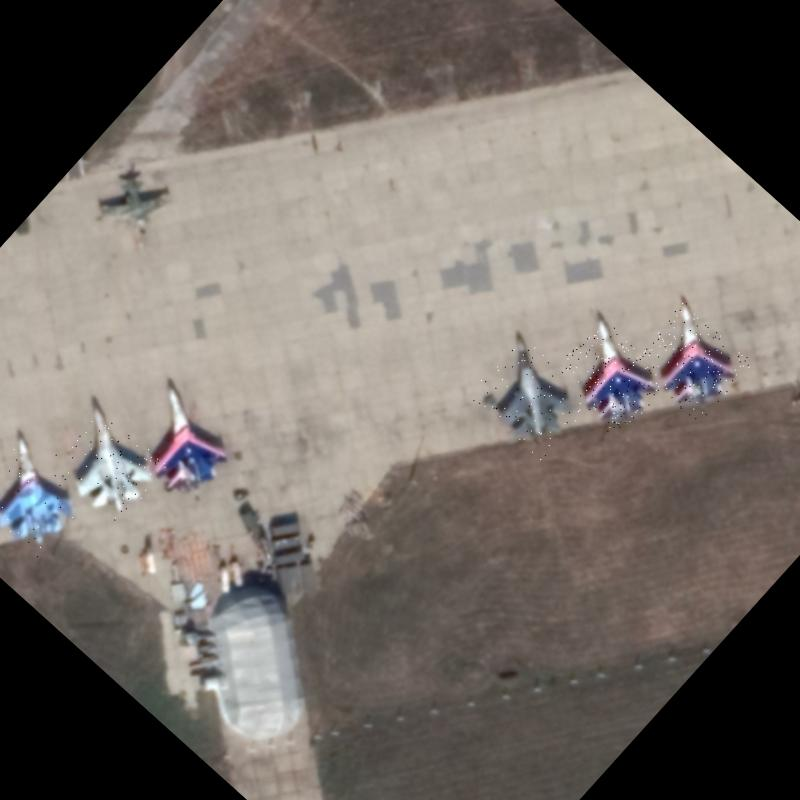A1: (465, 334, 595, 463), (117, 385, 244, 511), (628, 300, 754, 426), (546, 316, 672, 441), (43, 404, 169, 529), (0, 434, 92, 561)
